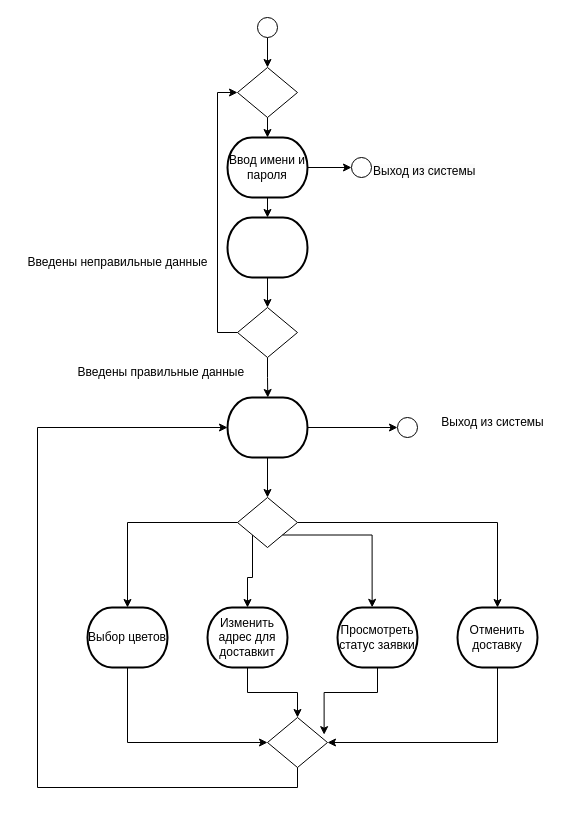
The diagram is 574 pixels wide and 813 high, and some of its shapes have lost their labels. The shapes that lost their labels are listed below. From the top down, each one's box as (x1, y1, x2, y2) in pixels, then its label:
(226, 216, 308, 278): Проверка имени и пароля
(226, 396, 308, 458): Выбор цветов для доствки
